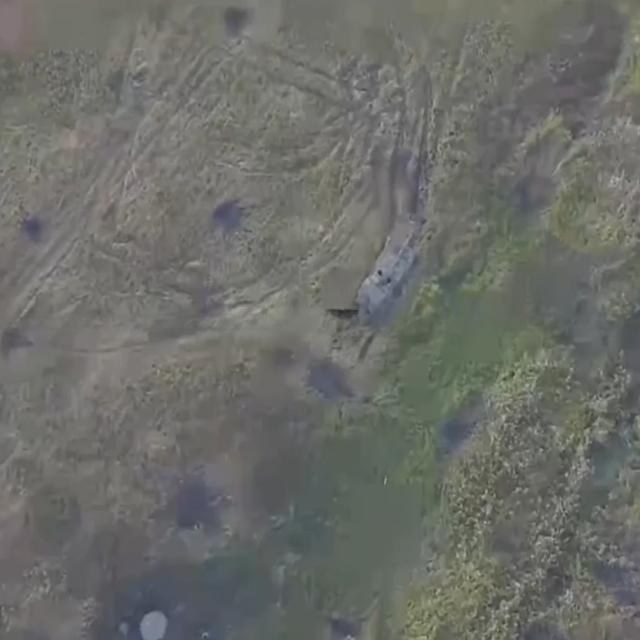MBT: (349, 219, 419, 323)
